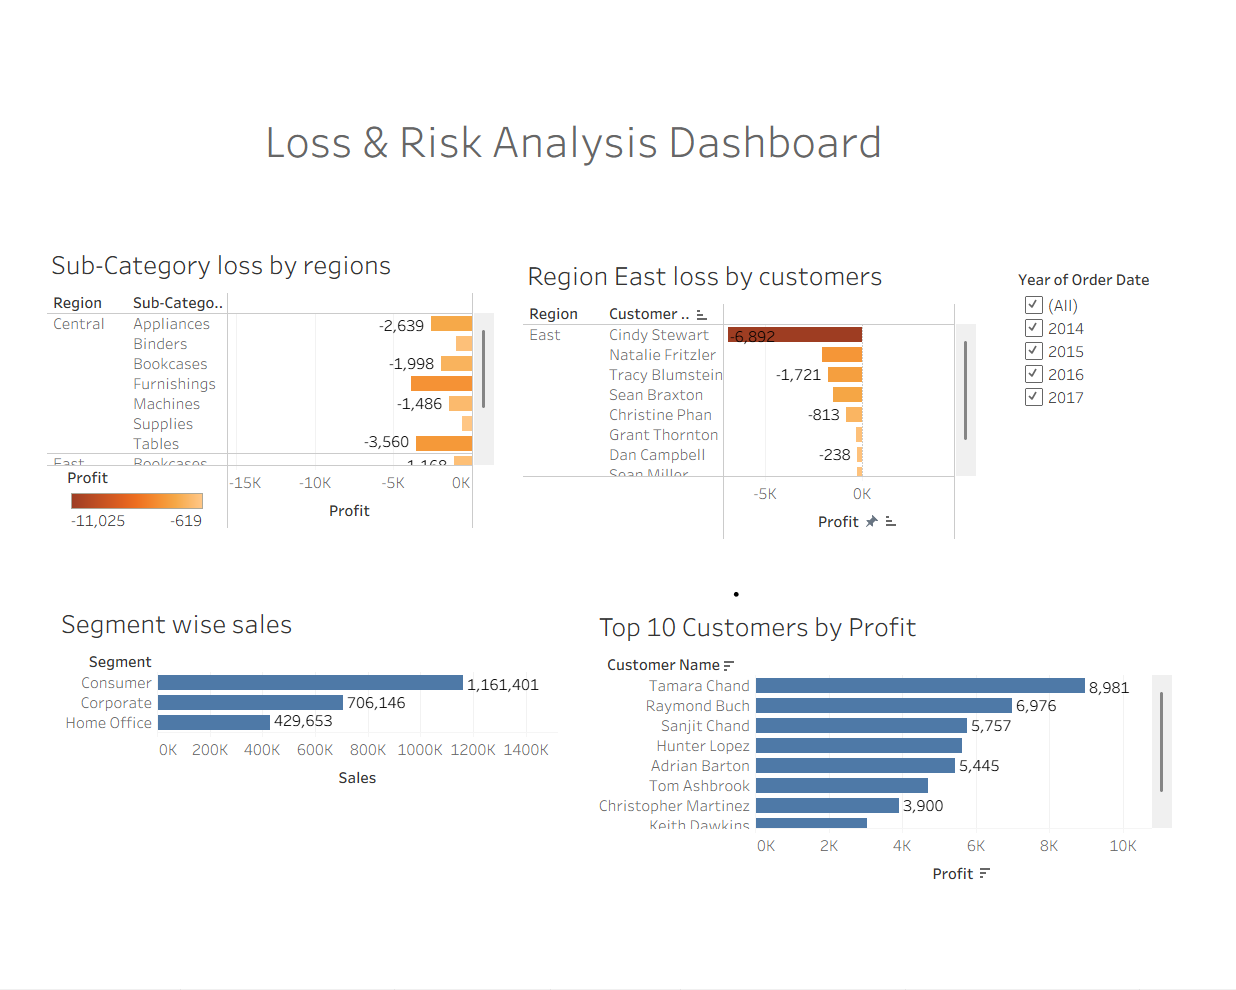

Layout of this report page (visuals, bound fields, positions):
{"tool":"tableau","page":{"name":"Dashboard 2","canvas":[1000,1000],"units":"permille","ordinal":1},"visuals":[{"type":"text","box":[200.8,26.2,583.3,127.2]},{"type":"worksheet","title":"Sub-Category loss by regions","mark":"Automatic","rows":["Region","Sub-Category"],"cols":["Profit"],"box":[22.5,210.7,372.5,332.9]},{"type":"worksheet","title":"Region East loss by customers","mark":"Automatic","rows":["Region","Customer Name"],"cols":["Profit"],"box":[419.2,223.2,377.5,332.9]},{"type":"filter","title":"Region East loss by customers","param":"[federated.0ps6hl917v0d8i11n44020lkm3fk].[yr:Order Date:ok]","box":[831.7,240.7,133.3,178.3]},{"type":"legend","title":"Sub-Category loss by regions","param":"[federated.0ps6hl917v0d8i11n44020lkm3fk].[sum:Profit:qk]","box":[39.2,471.3,116.7,109.7]},{"type":"worksheet","title":"Segment wise sales","mark":"Automatic","rows":["Segment"],"cols":["Sales"],"box":[30.8,628.4,417.5,332.9]},{"type":"worksheet","title":"Top 10 Customers by Profit","mark":"Automatic","rows":["Customer Name"],"cols":["Profit"],"box":[479.2,630.9,480.8,332.9]}]}

Visuals, with their boxes on the dashboard's canvas, which has no fixed pixel size, in thousandths of its width and height (x1, y1, x2, y2). These are canvas units, not pixel positions in the 1236x990 screenshot, which may show the page scaled, cropped or inside an application window:
text: [201, 26, 784, 153]
"Sub-Category loss by regions" worksheet: [22, 211, 395, 544]
"Region East loss by customers" worksheet: [419, 223, 797, 556]
"Region East loss by customers" filter: [832, 241, 965, 419]
"Sub-Category loss by regions" legend: [39, 471, 156, 581]
"Segment wise sales" worksheet: [31, 628, 448, 961]
"Top 10 Customers by Profit" worksheet: [479, 631, 960, 964]
